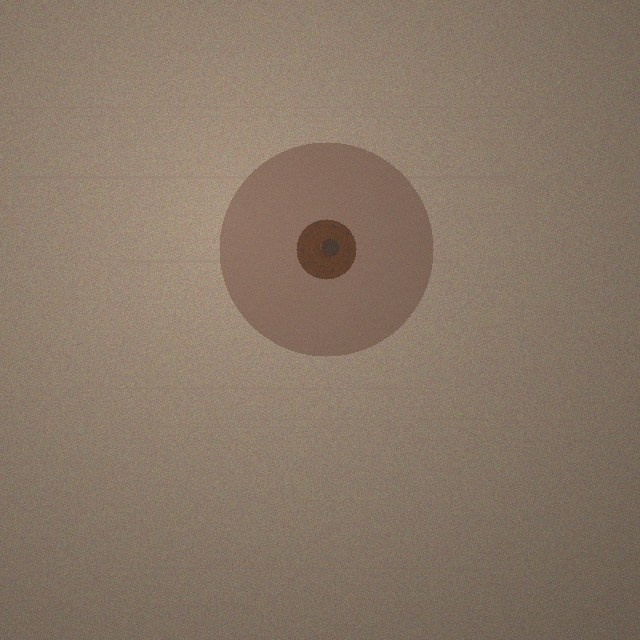cold_weld: (219, 142, 433, 356)
